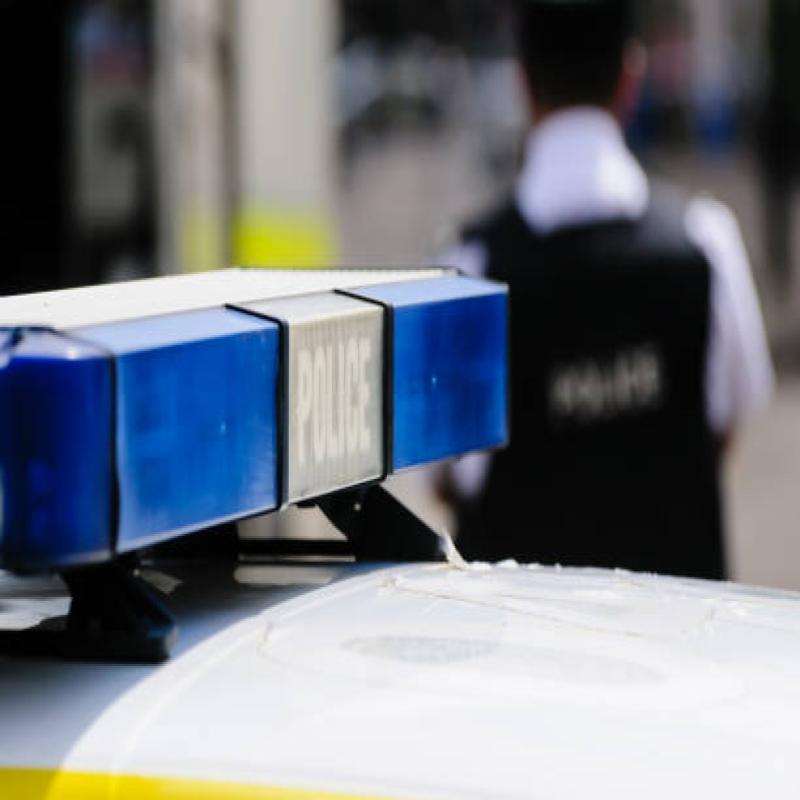AmbulanceSiren: (2, 227, 535, 533)
